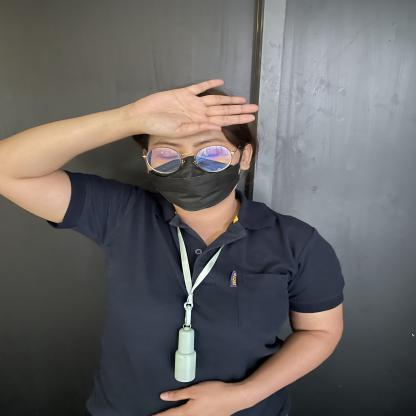Sick: (104, 70, 282, 148)
